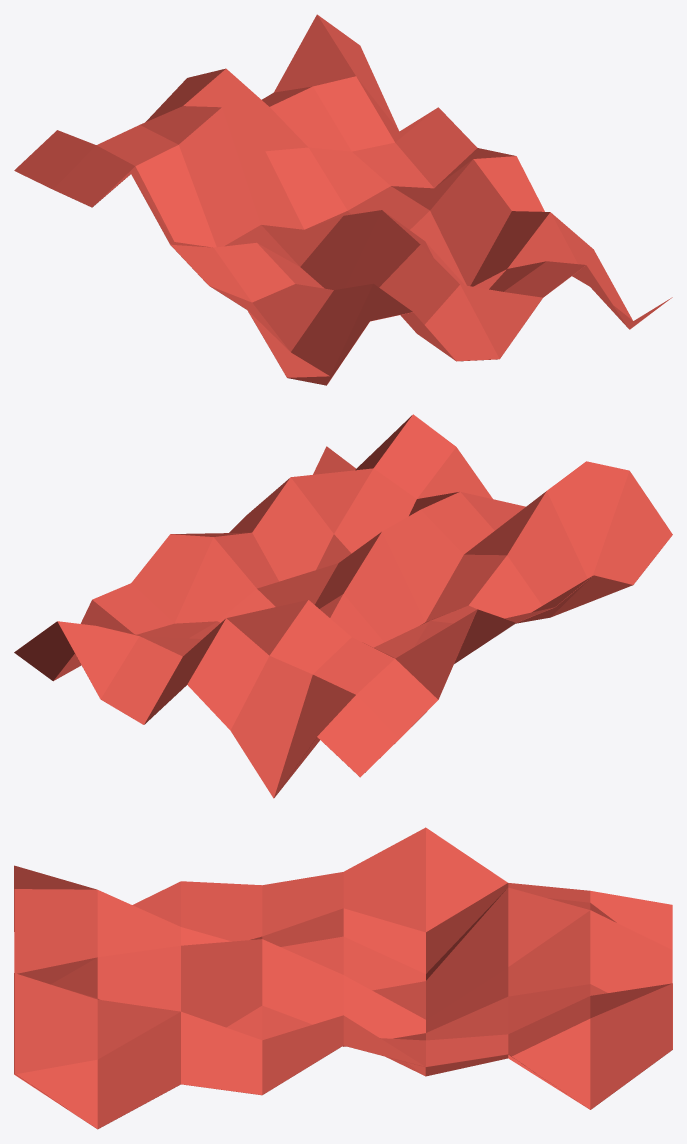
File: papel_2.fbx
3 renders of one model, top to bottom at view 1: azimuth 30°, elevation 25°; view 2: azimuth 150°, elevation 25°; view 3: azimuth 270°, elevation 25°, orthographic. The views are drawn at different scales.
Parts seen in each view (by area): view 1: Plano; view 2: Plano; view 3: Plano.
Part boxes in pixels (x1,y1,x2,y2): Plano: (14,14,672,385); Plano: (14,414,672,798); Plano: (14,827,672,1129).
Bounding box in the file's own units: 38.06 × 13.79 × 59.51.
